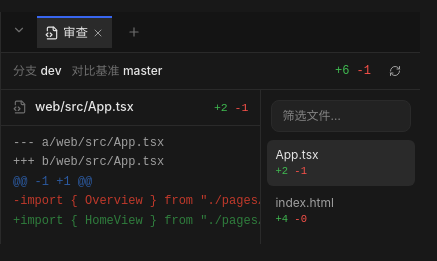
ToolsPanel ReviewPane › 点击文件切换差异内容
The image size is (437, 261).
Check: the text "web/src/App.tsx" is shown, box [35,98,134,117]
Click the text "index.html": (305, 202) [275,195,334,210]
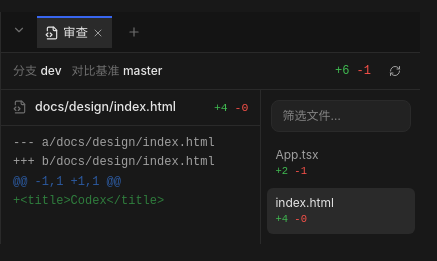
Check: the text "+<title>Codex</title>" is shown, box [13,194,164,208]
